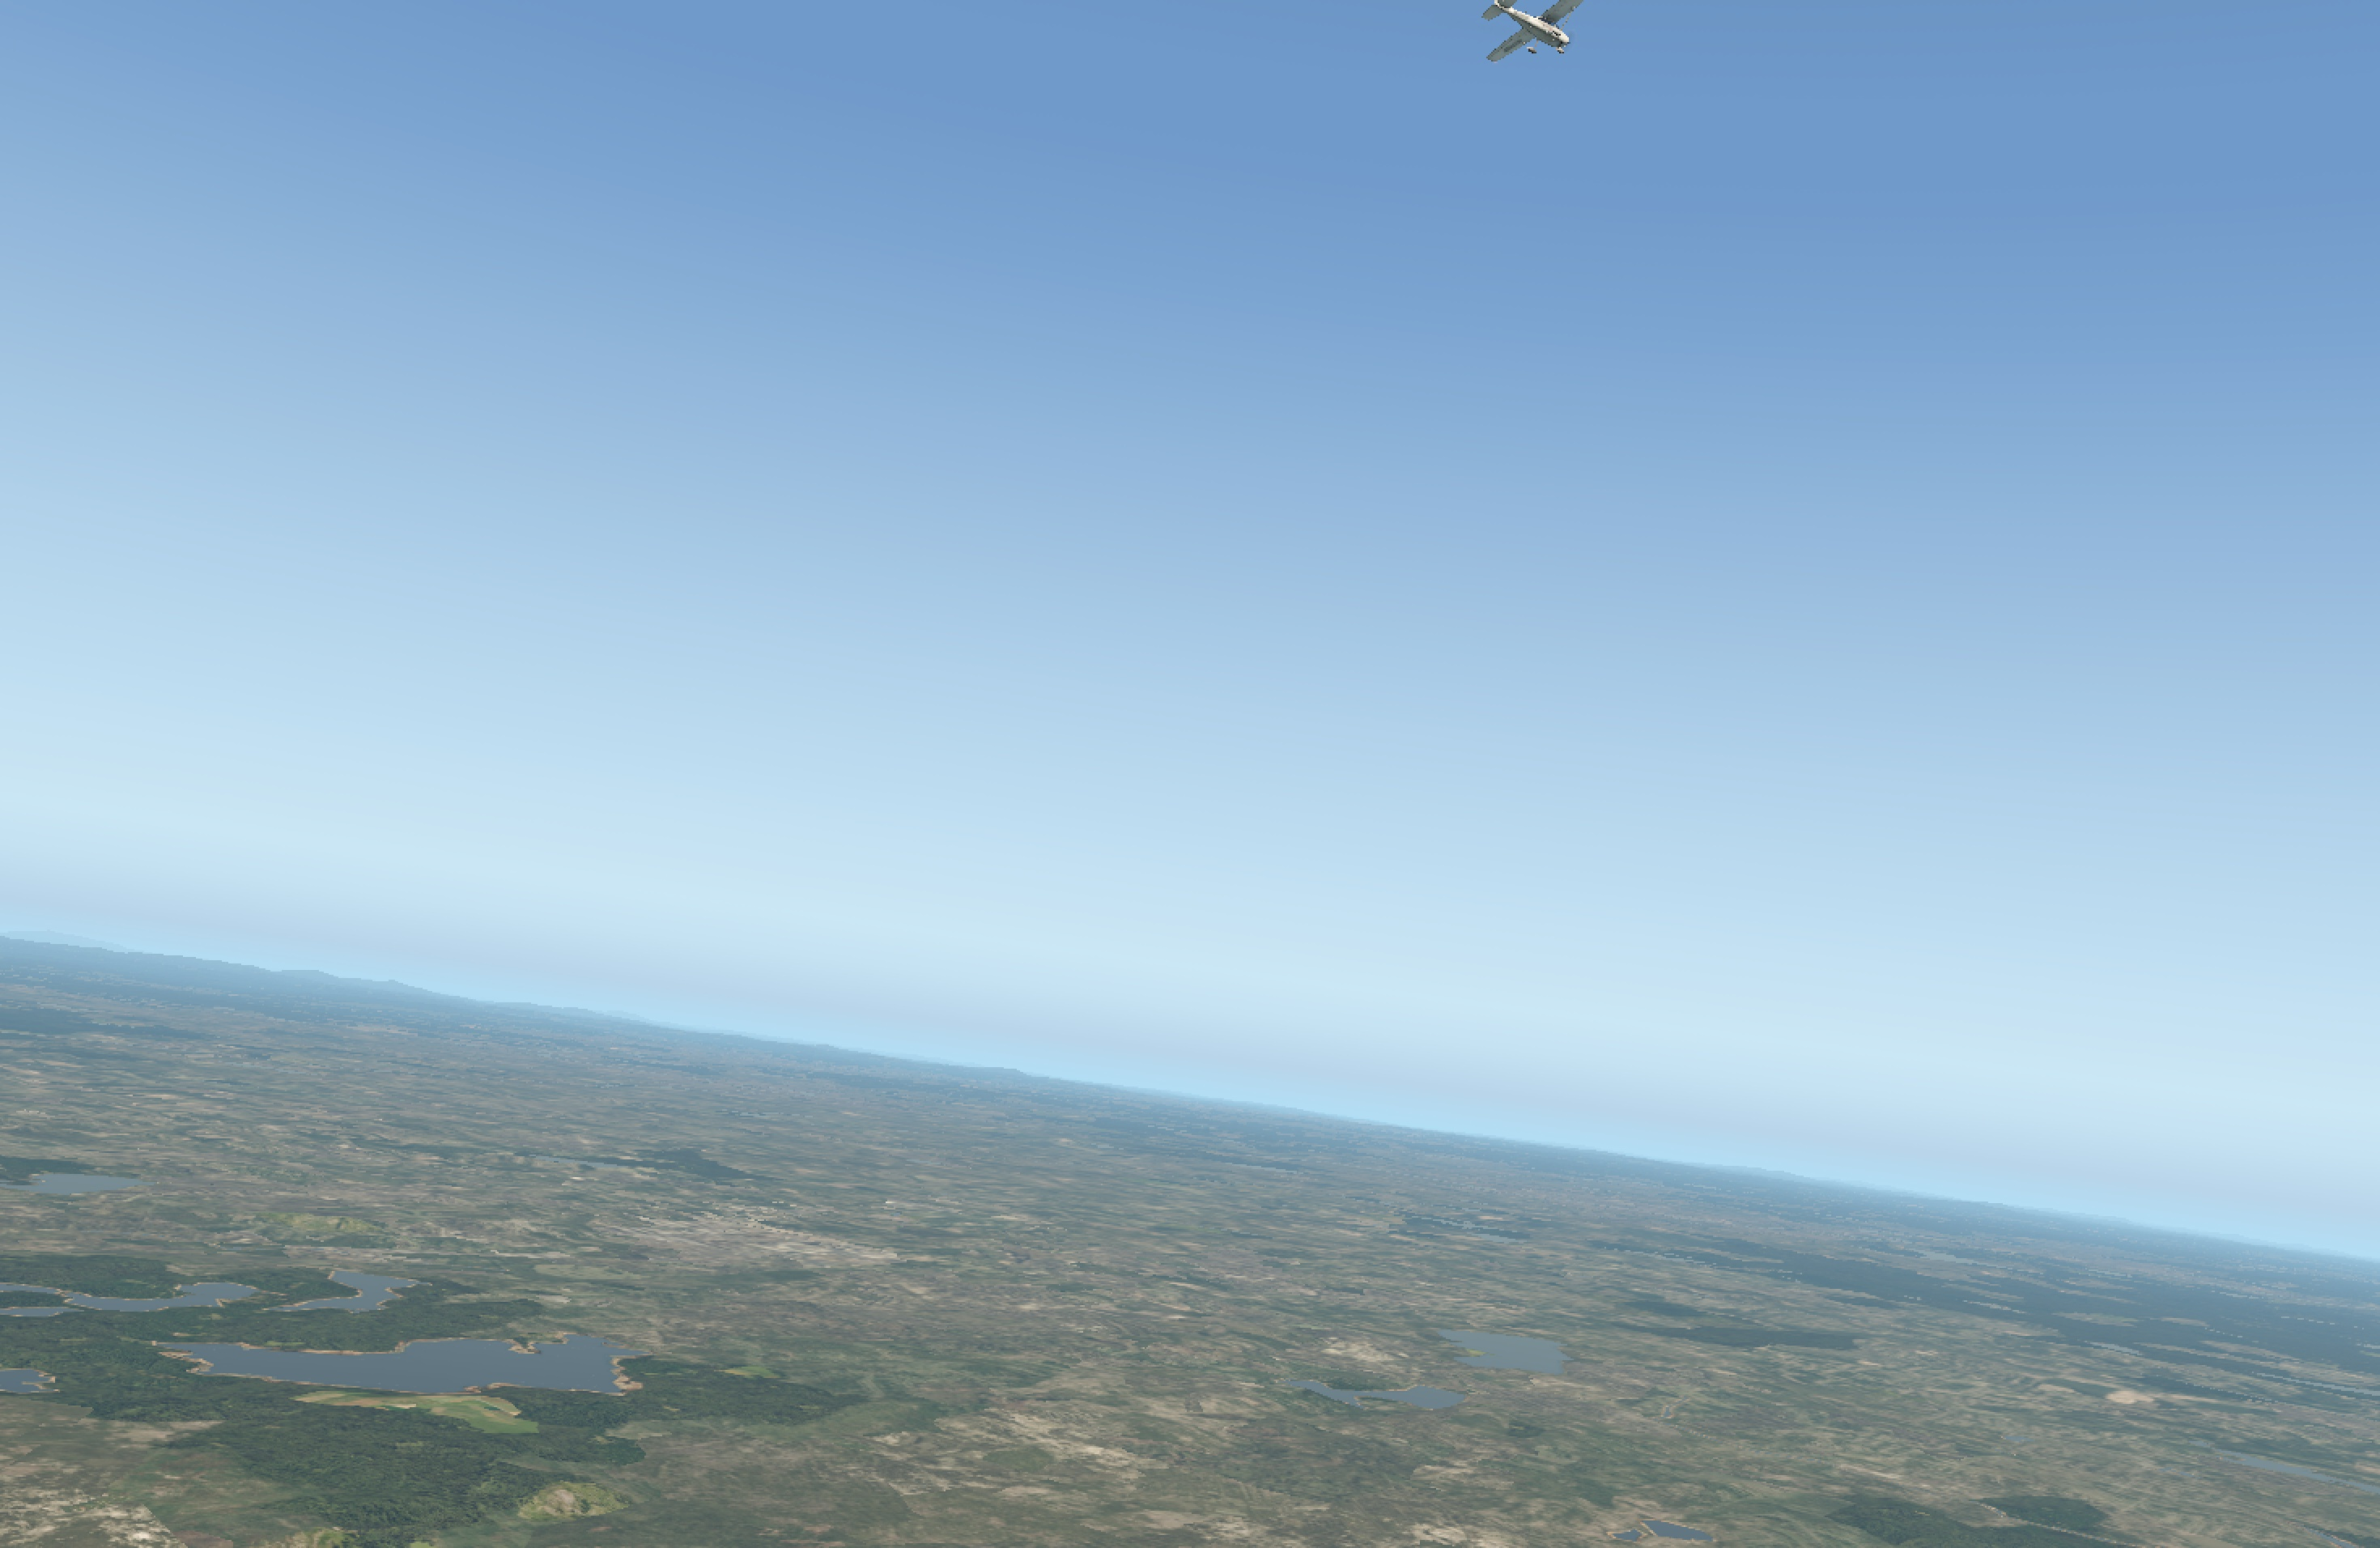aircraft: (1497, 12, 1596, 49)
